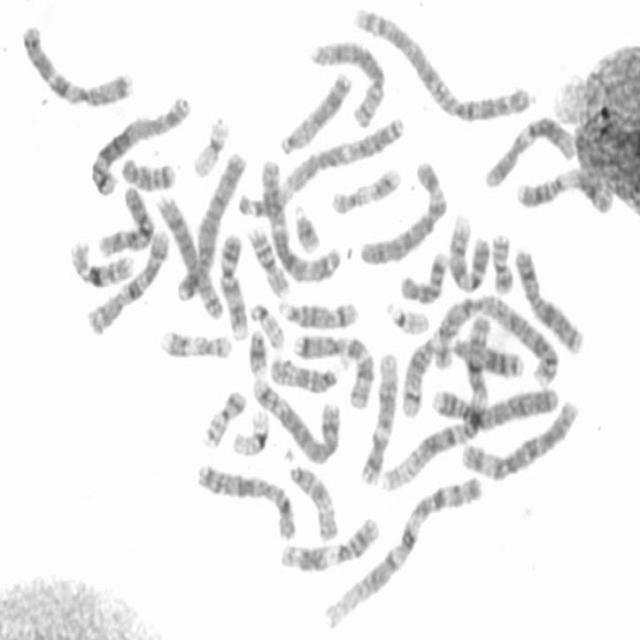A1: (319, 468, 487, 632), (374, 307, 496, 493)
A2: (350, 0, 534, 125), (425, 288, 564, 388)
A3: (236, 111, 407, 221), (256, 153, 342, 283)
B4: (172, 146, 248, 305), (427, 378, 562, 431)
B5: (85, 89, 194, 199), (248, 372, 342, 464)
C10: (83, 222, 172, 336), (95, 181, 156, 258)
C11: (276, 512, 382, 574), (512, 162, 617, 214)
C12: (481, 108, 579, 191), (357, 348, 400, 487)
C6: (457, 393, 580, 482), (356, 155, 449, 266)
C7: (17, 16, 136, 110), (290, 327, 376, 411)
C8: (152, 187, 226, 322), (307, 34, 388, 128)
C9: (444, 208, 492, 294), (216, 230, 251, 342)
D13: (274, 66, 354, 158), (436, 333, 525, 380)
D14: (398, 331, 440, 418), (274, 293, 360, 331)
D15: (283, 459, 340, 542), (266, 351, 342, 394)
E16: (66, 233, 134, 289), (244, 220, 292, 299)
E17: (326, 160, 404, 216), (156, 322, 234, 362)
E18: (396, 244, 449, 304), (118, 152, 179, 193)
F19: (188, 110, 232, 178), (228, 403, 271, 458)
F20: (198, 384, 249, 449), (488, 227, 516, 294)
G21: (290, 199, 323, 255), (245, 323, 270, 378)
G22: (246, 296, 286, 349), (382, 296, 432, 336)
X: (192, 458, 298, 542), (510, 242, 587, 356)
